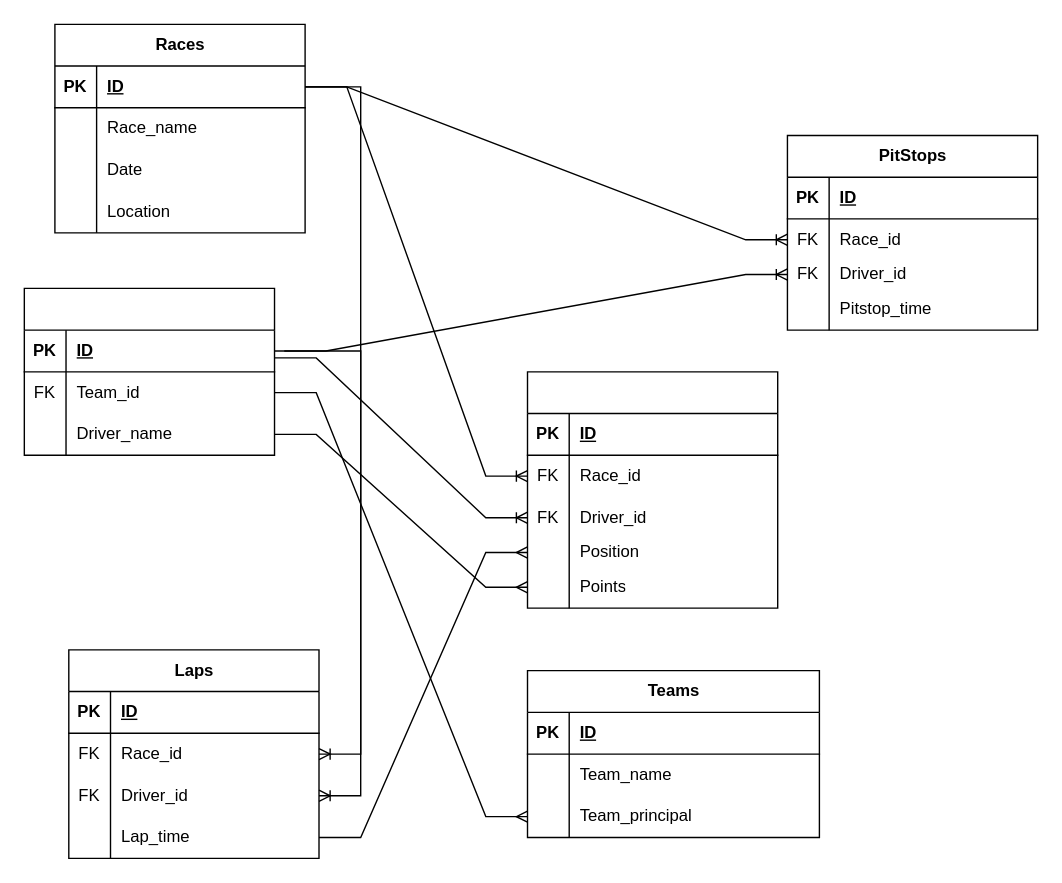
Some shapes in this 1062 by 883 pixel diagram are drawn without their labels. Each missing label, with the box of its shape:
Drivers: (23, 287, 275, 455)
Standings: (526, 370, 778, 608)
